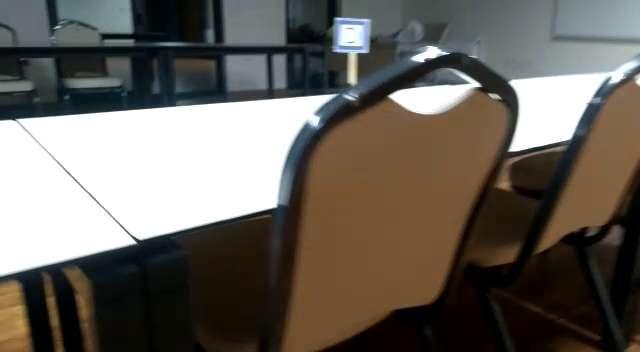durak: (333, 18, 372, 52)
